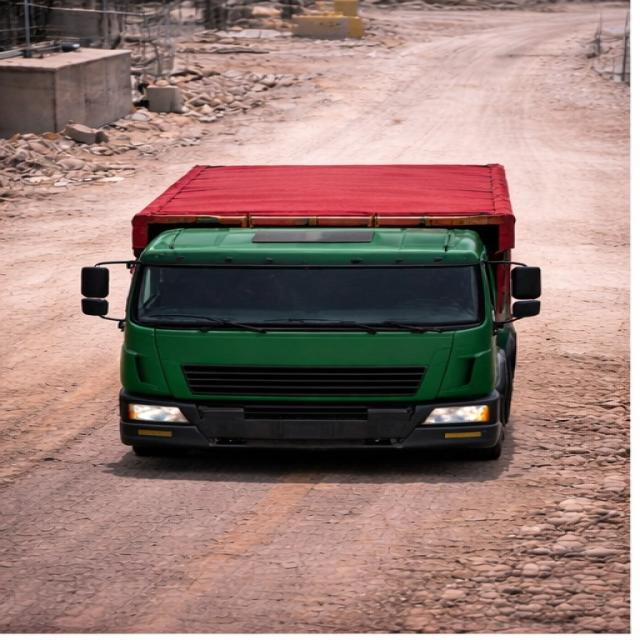trailer: (134, 162, 534, 216)
truck: (78, 140, 551, 464)
